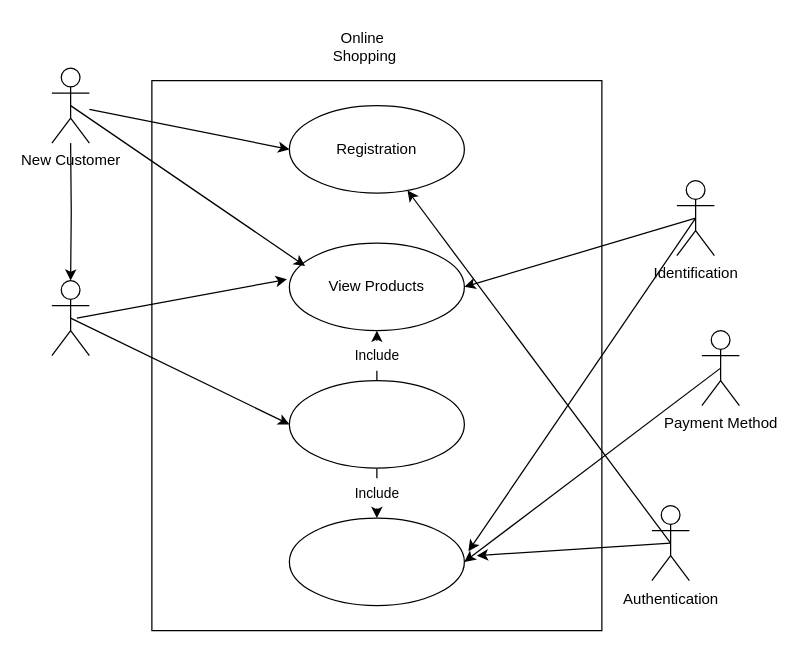
Some shapes in this 799 by 653 pixel diagram are drawn without their labels. The shapes that lost their labels are listed below. From the top down, each one's box as (x1, y1, x2, y2) in pixels, then its label:
(51, 279, 89, 356): Customer
(288, 379, 464, 468): Buy Products
(288, 517, 464, 606): Checkout
